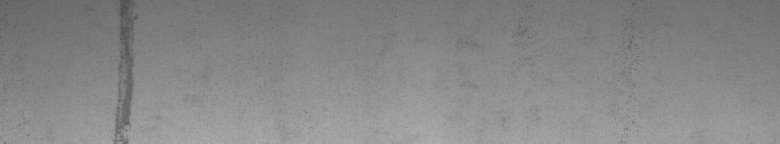hd: (111, 4, 138, 136)
